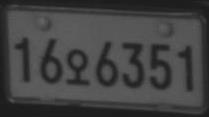1: (174, 44, 199, 92), (12, 36, 35, 83)
3: (121, 40, 146, 89)
5: (149, 42, 172, 90)
6: (94, 40, 118, 88), (39, 37, 63, 84)
오: (64, 48, 90, 86)
